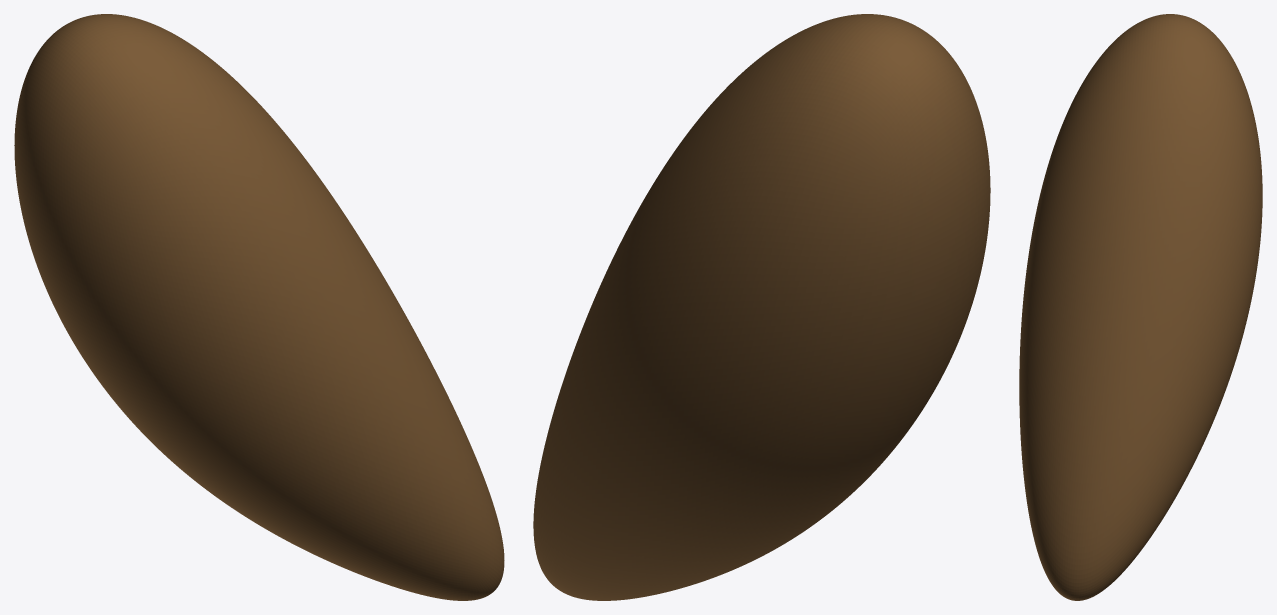
The model's file is seed.glb.
The picture shows the model from 3 angles, left to right: view 1: azimuth 30°, elevation 25°; view 2: azimuth 150°, elevation 25°; view 3: azimuth 270°, elevation 25°; orthographic projection. The views are drawn at different scales.
Parts seen in each view (by area): view 1: Quad Sphere; view 2: Quad Sphere; view 3: Quad Sphere.
Part boxes in pixels (bbox=[...]): Quad Sphere: bbox=[14, 14, 504, 600]; Quad Sphere: bbox=[533, 14, 990, 600]; Quad Sphere: bbox=[1019, 14, 1262, 600].
Size of the model in its own units: 4.13 by 5.76 by 2.74.
